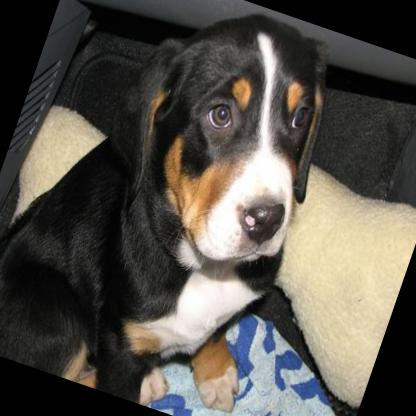Greater_Swiss_Mountain_dog: (0, 0, 358, 416)
